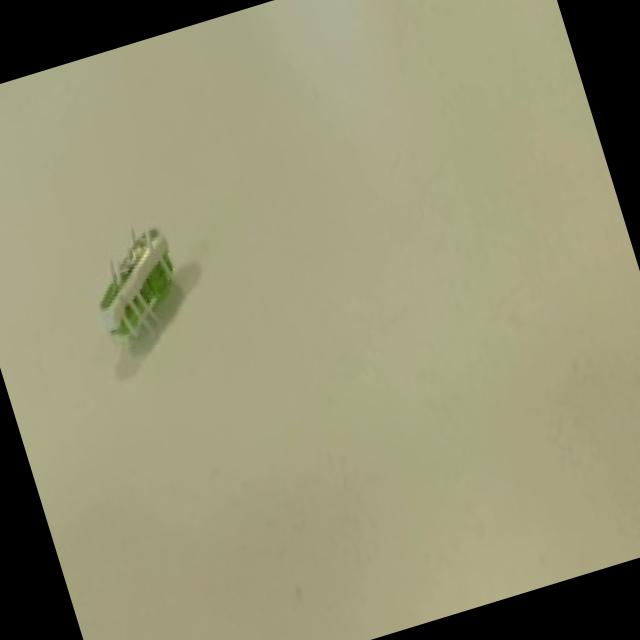4_NanoBug_Blanco: (58, 200, 240, 406)
